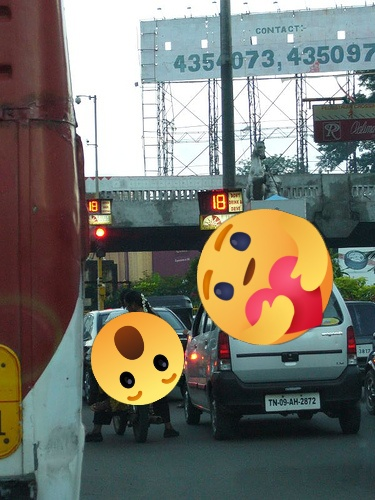care: (197, 209, 333, 345)
wow: (91, 312, 184, 405)
